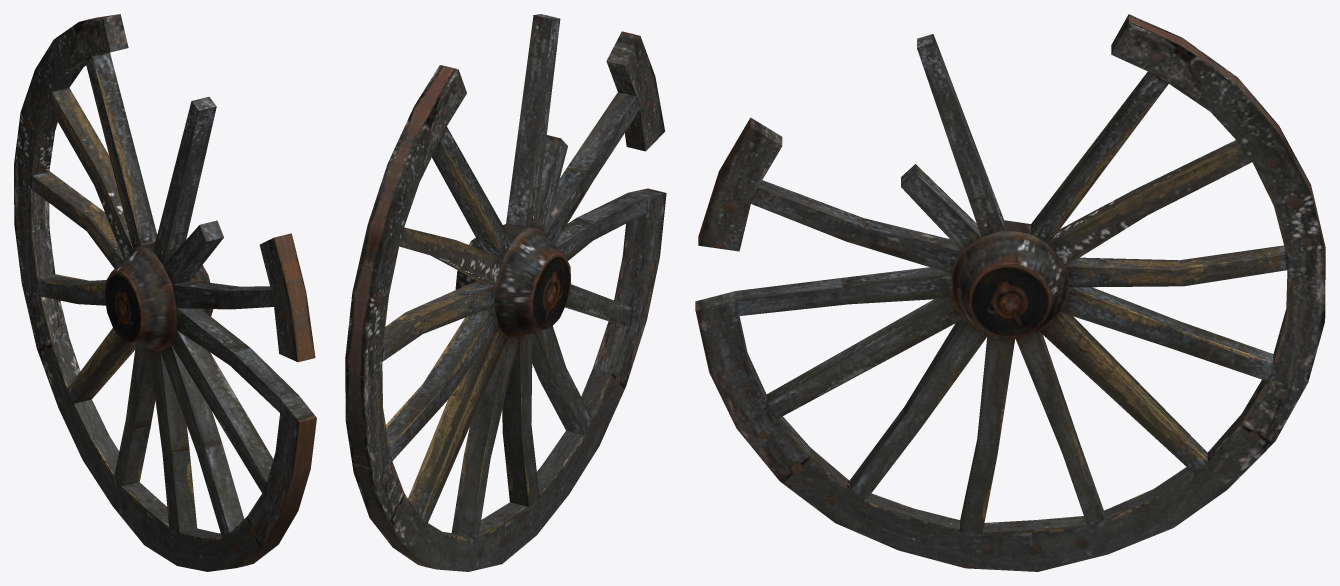
Rendered from Wheeldamaged_LOD02.fbx.
The picture shows the model from 3 angles, left to right: view 1: azimuth 30°, elevation 25°; view 2: azimuth 150°, elevation 25°; view 3: azimuth 270°, elevation 25°; orthographic projection. The views are drawn at different scales.
Parts seen in each view (by area): view 1: Default_Layer; view 2: Default_Layer; view 3: Default_Layer.
Boxes of the visible parts, box(x1,y1,x2,y2) form: Default_Layer: box(14, 14, 316, 571); Default_Layer: box(345, 14, 666, 571); Default_Layer: box(695, 14, 1325, 571).
Bounding box in the file's own units: 14.47 × 95.3 × 99.21.
